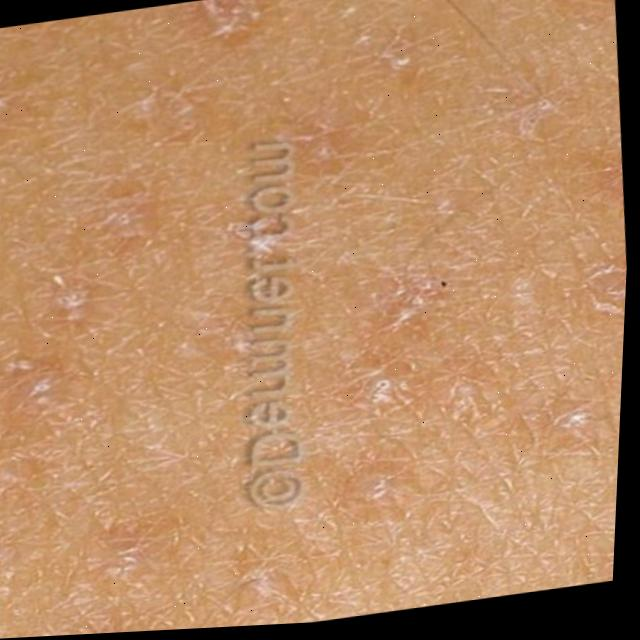Eczema: (0, 7, 509, 640)
